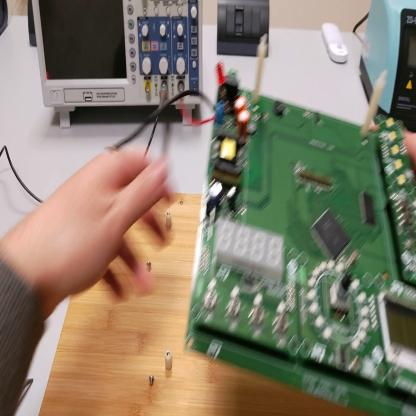hand: (35, 148, 174, 309)
low voltage board: (184, 62, 416, 410)
oscilloscope: (33, 3, 203, 126)
socket: (28, 2, 37, 46), (1, 2, 10, 39)
welder station: (358, 3, 415, 130)
working area: (41, 197, 416, 414)
